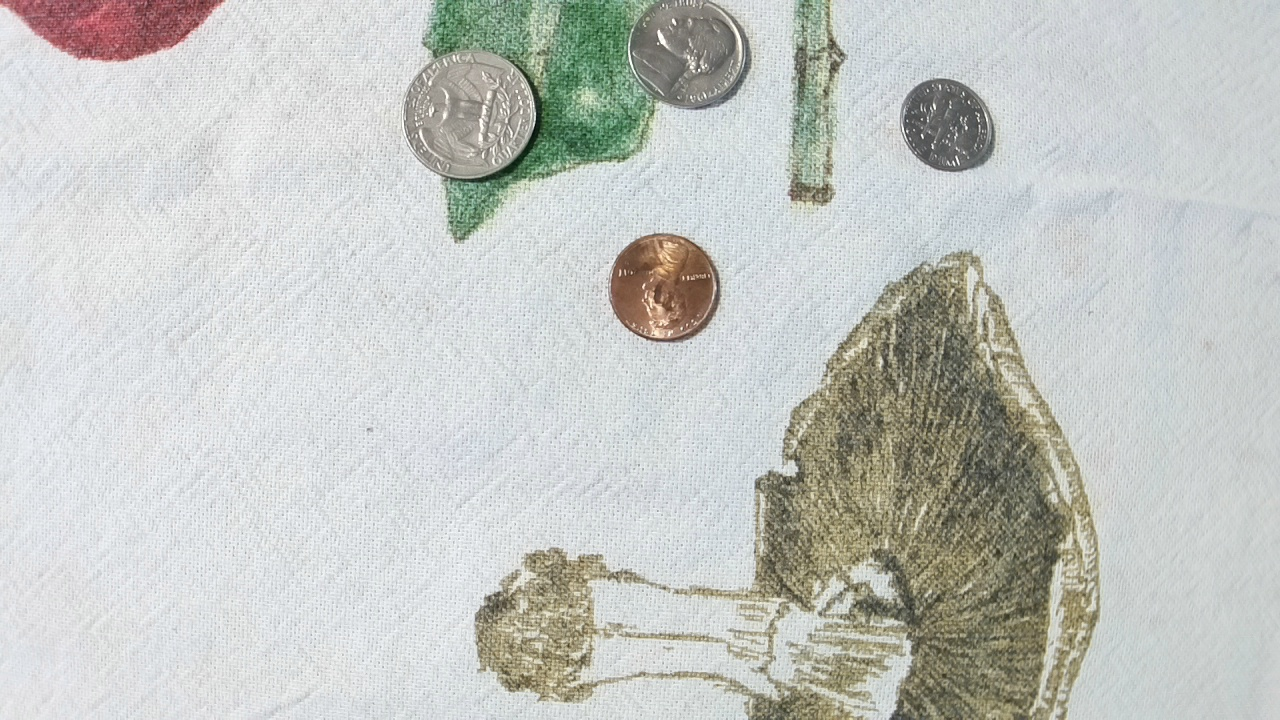dime: (896, 74, 998, 174)
nickel: (622, 0, 754, 114)
penny: (606, 230, 722, 344)
quarter: (404, 42, 538, 188)
